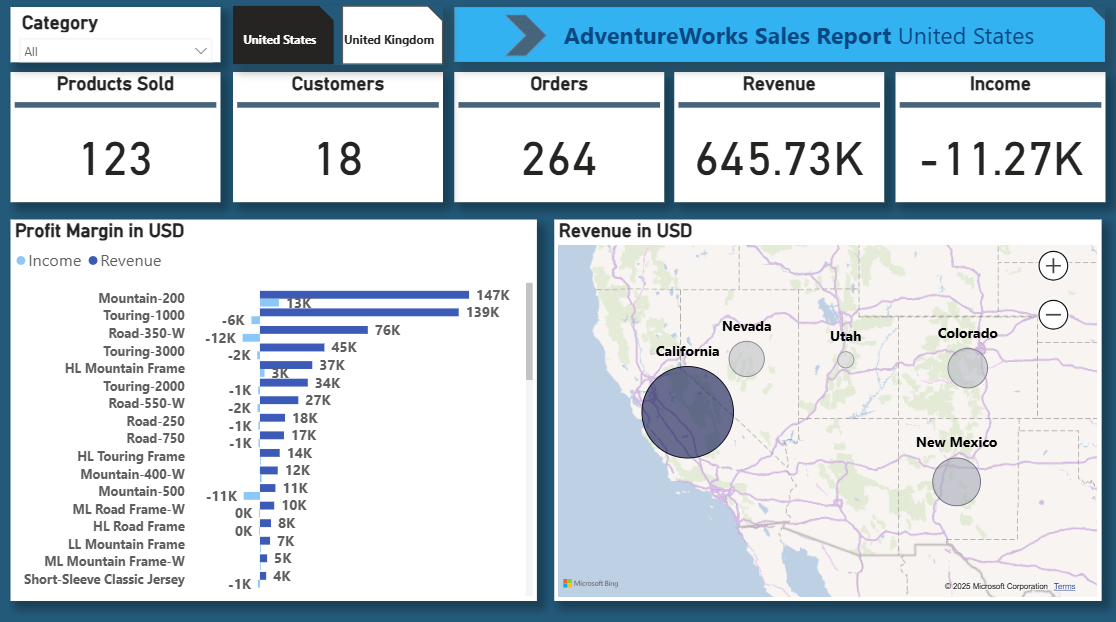

The page's visual inventory and layout, read from the dashboard file:
{"tool":"powerbi","page":{"name":"United States","canvas":[1280,720],"ordinal":0},"visuals":[{"type":"shape","box":[0,0,1280,720],"z":0},{"type":"card","title":"Products Sold","fields":{"Values":["Count(customers.product_id)"]},"box":[14.3,85.7,240,148.6],"z":1000},{"type":"card","title":"Orders","fields":{"Values":["CountNonNull(customers.product_id)"]},"box":[521.4,85.7,240,148.6],"z":2000},{"type":"card","title":"Customers","fields":{"Values":["Count(customers.Customer ID)"]},"box":[268.6,85.7,240,148.6],"z":3000},{"type":"card","title":"Revenue","fields":{"Values":["Sum(orders.Total Price)"]},"box":[772.9,85.7,240,148.6],"z":4000},{"type":"card","title":"Income","fields":{"Values":["Sum(orders.Income)"]},"box":[1025.7,85.7,240,148.6],"z":5000},{"type":"slicer","fields":{"Values":["orders.Category"]},"box":[14.3,11.4,240,62.9],"z":6000},{"type":"shape","box":[521.4,11.4,744.3,62.9],"z":7000},{"type":"shape","box":[579,20,49,48.1],"z":8000},{"type":"textbox","box":[641.8,20,613.6,60],"z":9000},{"type":"clusteredBarChart","title":"Profit Margin in USD","fields":{"Y":["Sum(orders.Income)","Sum(orders.Total Price)"],"Category":["orders.Model"]},"box":[14.3,254.3,601.4,435.7],"z":10000},{"type":"map","title":"Revenue in USD","fields":{"Category":["customers.State"],"Size":["Sum(orders.Total Price)"]},"box":[635.7,254.3,625.7,435.7],"z":11000},{"type":"pageNavigator","box":[268.8,9.6,240,67.1],"z":12000}]}

Visuals, with their boxes in screenshot pixels (x1, y1, x2, y2), scaled from the page's 1280x720 canvas onto the 1116x622 screenshot:
shape: (x1=0, y1=0, x2=1115, y2=621)
"Products Sold" card: (x1=12, y1=74, x2=222, y2=202)
"Orders" card: (x1=455, y1=74, x2=664, y2=202)
"Customers" card: (x1=234, y1=74, x2=443, y2=202)
"Revenue" card: (x1=674, y1=74, x2=883, y2=202)
"Income" card: (x1=894, y1=74, x2=1104, y2=202)
slicer - orders.Category: (x1=12, y1=10, x2=222, y2=64)
shape: (x1=455, y1=10, x2=1104, y2=64)
shape: (x1=505, y1=17, x2=548, y2=59)
textbox: (x1=560, y1=17, x2=1095, y2=69)
"Profit Margin in USD" clusteredBarChart: (x1=12, y1=220, x2=537, y2=596)
"Revenue in USD" map: (x1=554, y1=220, x2=1100, y2=596)
pageNavigator: (x1=234, y1=8, x2=444, y2=66)
